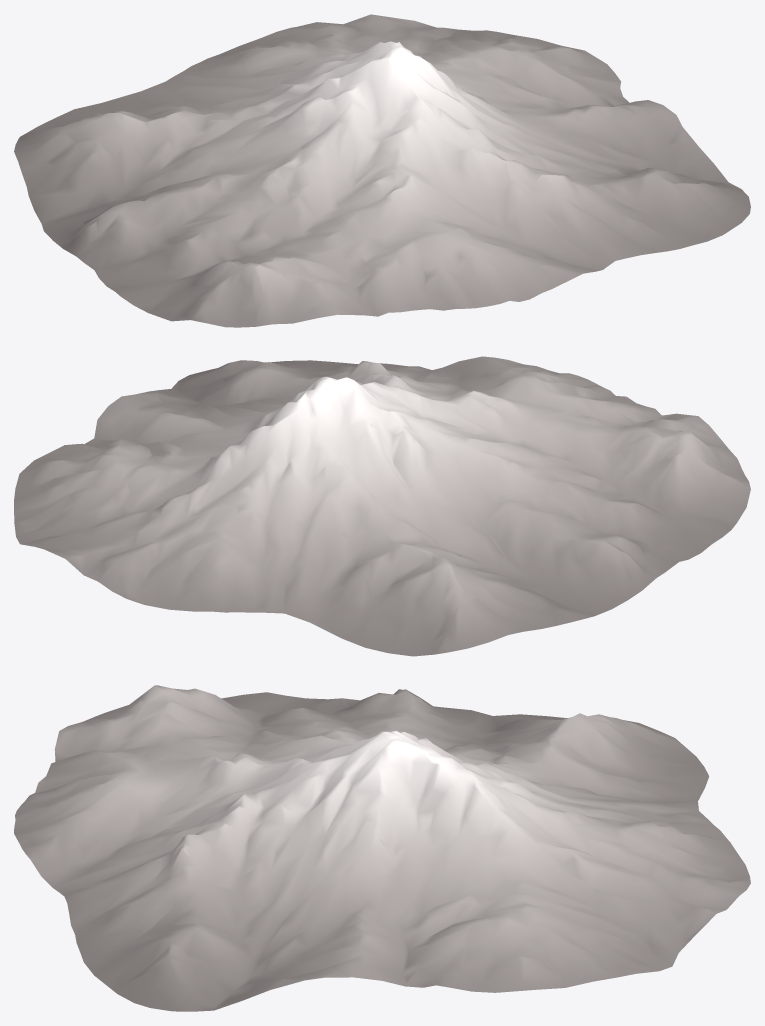
File: Mountain_02.glb
The picture shows the model from 3 angles, top to bottom: view 1: azimuth 30°, elevation 25°; view 2: azimuth 150°, elevation 25°; view 3: azimuth 270°, elevation 25°; orthographic projection. The views are drawn at different scales.
Visible parts, largest first — view 1: Mountain_02; view 2: Mountain_02; view 3: Mountain_02.
Part boxes in pixels (x1,y1,x2,y2): Mountain_02: (14,14,750,327); Mountain_02: (14,356,750,656); Mountain_02: (14,685,750,1011).
Bounding box in the file's own units: 61.5 × 13.18 × 61.33.
Materials: 1 (1 with a texture image).
